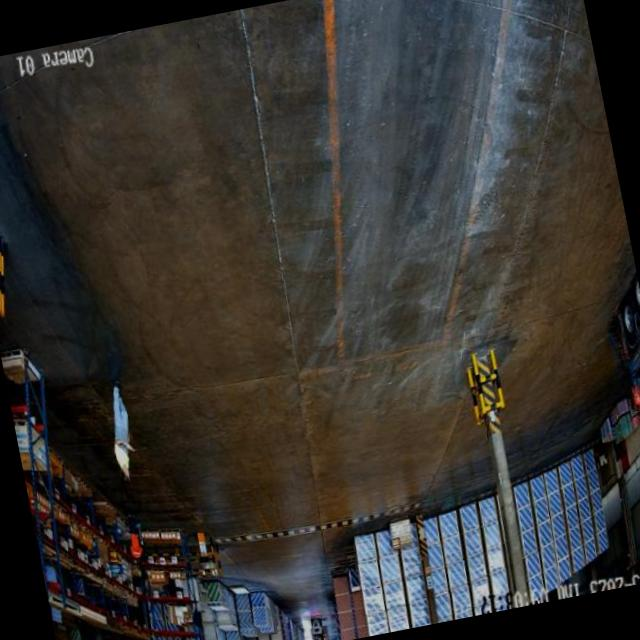person: (96, 374, 146, 488), (124, 516, 147, 563)
